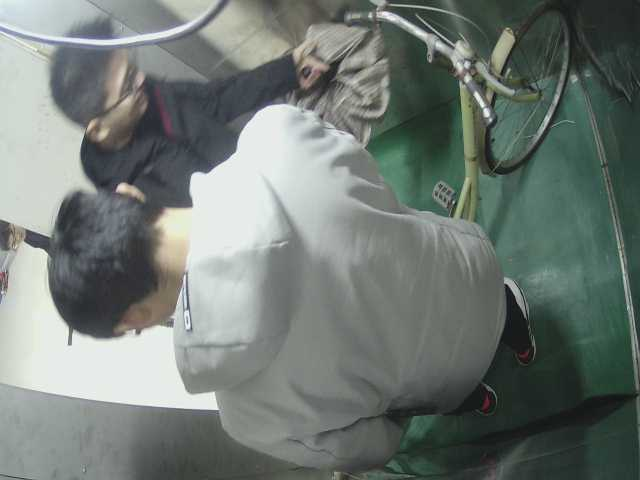bicycle: (346, 1, 583, 237)
person: (49, 140, 548, 458), (46, 18, 392, 197)
